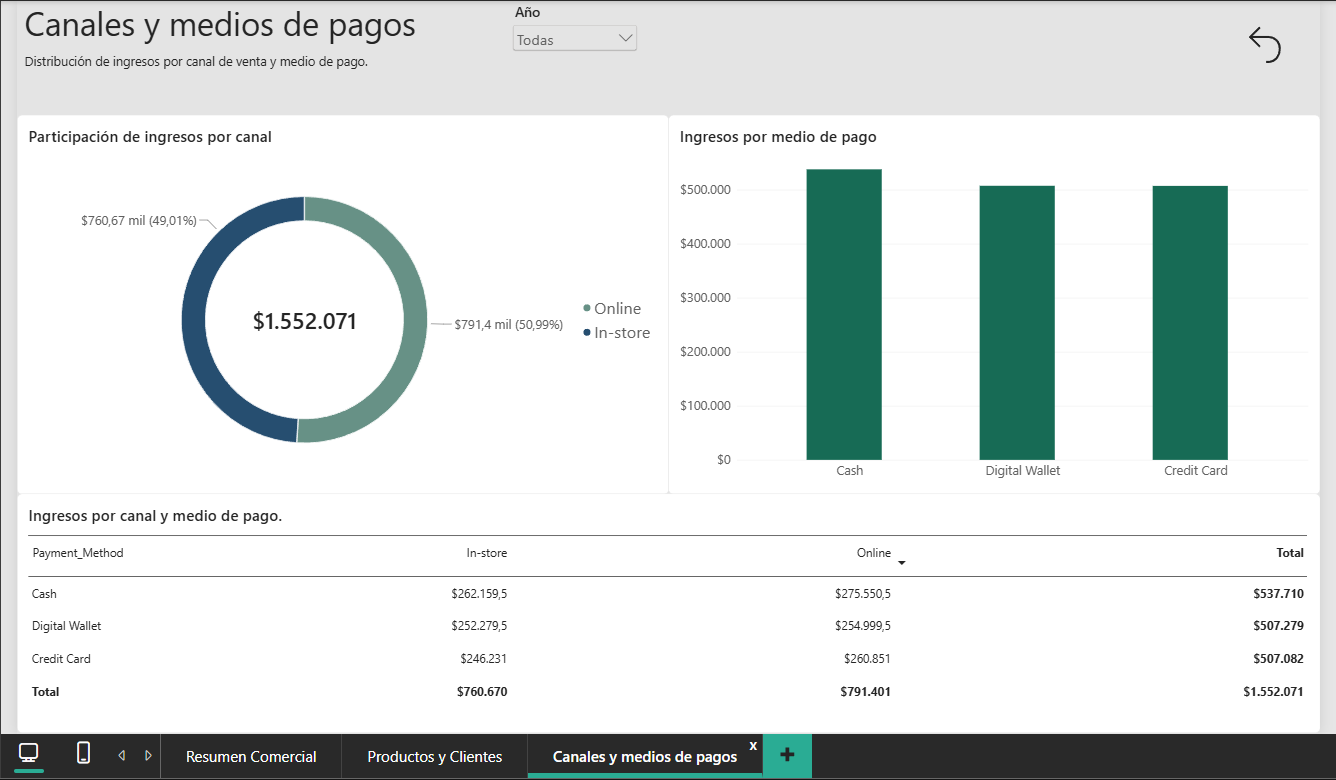

What the dashboard file says about the page in this screenshot:
{"tool":"powerbi","page":{"name":"Canales y medios de pagos ","canvas":[1920,1080],"ordinal":2},"visuals":[{"type":"textbox","box":[10.8,0,621.8,93.2],"z":0},{"type":"textbox","box":[10.8,75.8,550.3,49.8],"z":1},{"type":"donutChart","title":"Participación de ingresos por canal","fields":{"Category":["RetailSales_Validada.Location"],"Y":["RetailSales_Validada.Ingresos Registrados"]},"box":[0,166.8,959.8,559],"z":2},{"type":"columnChart","title":"Ingresos por medio de pago","fields":{"Category":["RetailSales_Validada.Payment_Method"],"Y":["RetailSales_Validada.Ingresos Registrados"]},"box":[959.8,166.8,959.8,559],"z":3},{"type":"pivotTable","title":"Ingresos por canal y medio de pago.","fields":{"Columns":["RetailSales_Validada.Location"],"Rows":["RetailSales_Validada.Payment_Method"],"Values":["RetailSales_Validada.Ingresos Registrados"]},"box":[0,725.8,1919.6,353.2],"z":4},{"type":"slicer","fields":{"Values":["RetailSales_Validada.Anio"]},"box":[725.8,2.2,192.8,140.8],"z":5},{"type":"actionButton","box":[1759.3,0,156,128],"z":6}]}

Visuals, with their boxes on the page's 1920x1080 design canvas (x1, y1, x2, y2). These are canvas units, not pixel positions in the 1336x780 screenshot, which may show the page scaled, cropped or inside an application window:
textbox: BBox(11, 0, 633, 93)
textbox: BBox(11, 76, 561, 126)
"Participación de ingresos por canal" donutChart: BBox(0, 167, 960, 726)
"Ingresos por medio de pago" columnChart: BBox(960, 167, 1920, 726)
"Ingresos por canal y medio de pago." pivotTable: BBox(0, 726, 1920, 1079)
slicer - RetailSales_Validada.Anio: BBox(726, 2, 919, 143)
actionButton: BBox(1759, 0, 1915, 128)
